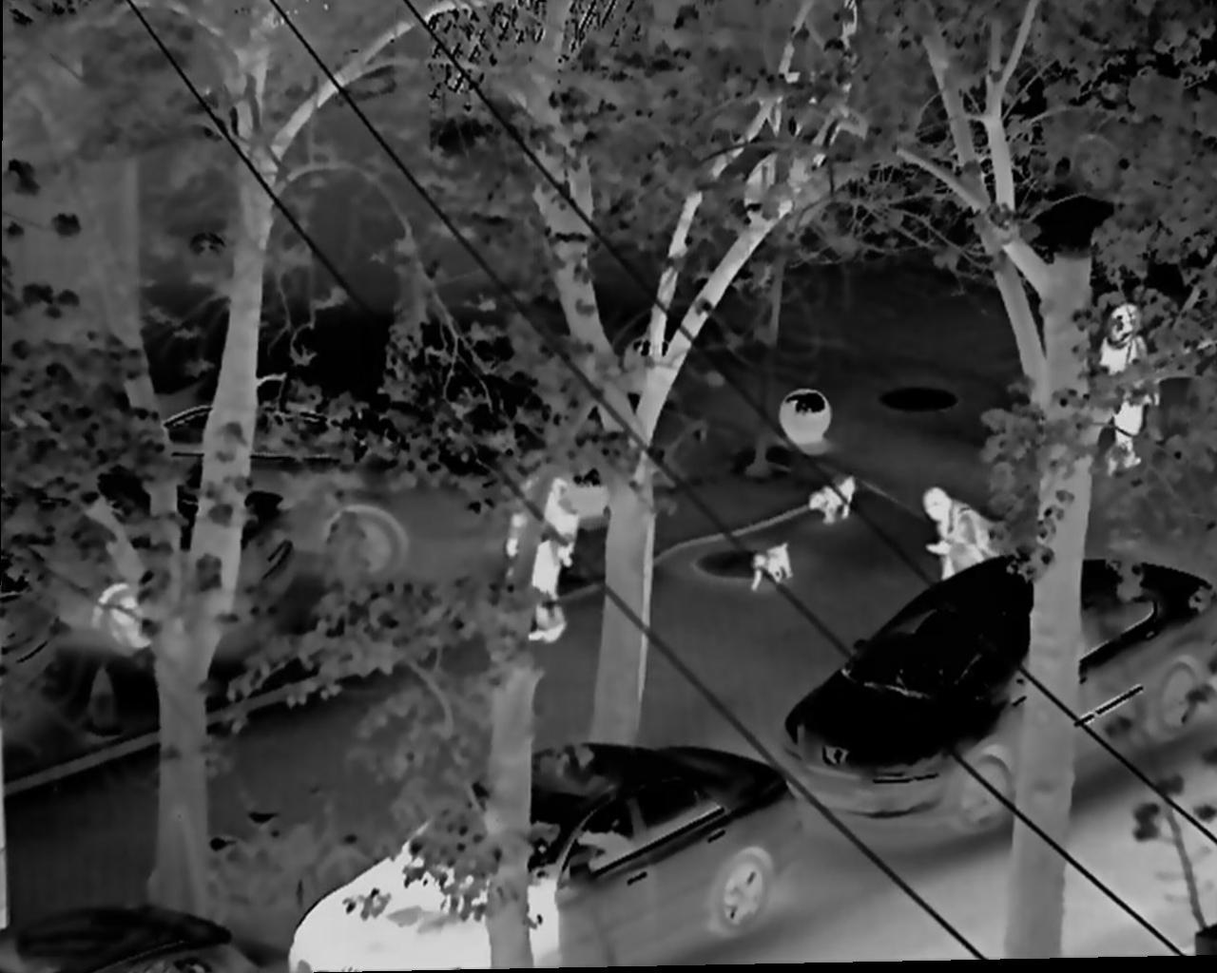person: (505, 456, 578, 642), (1097, 296, 1162, 482), (925, 482, 999, 603)
